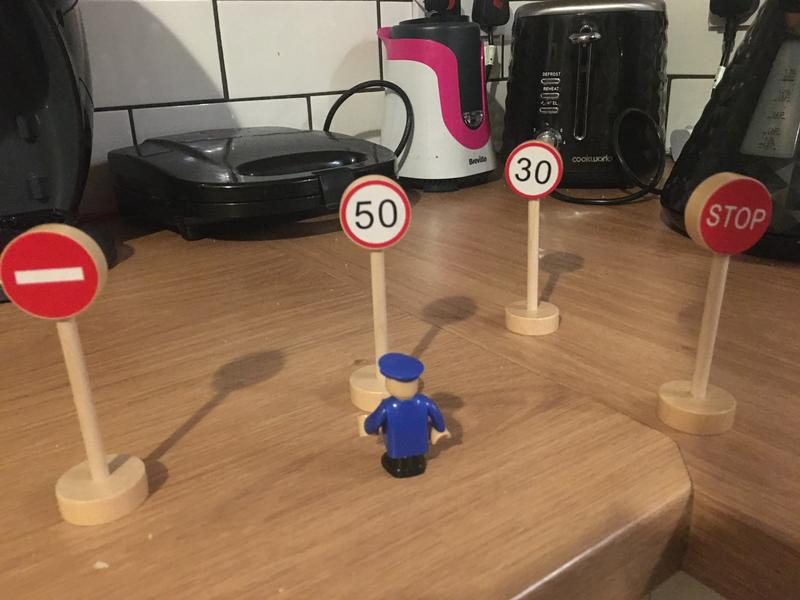Traffic_Sign_30: (505, 142, 561, 197)
Traffic_Sign_50: (340, 179, 411, 250)
Traffic_Sign_No_Entry: (1, 230, 99, 321)
Traffic_Sign_Stop: (701, 177, 771, 253)
person: (356, 352, 454, 479)
